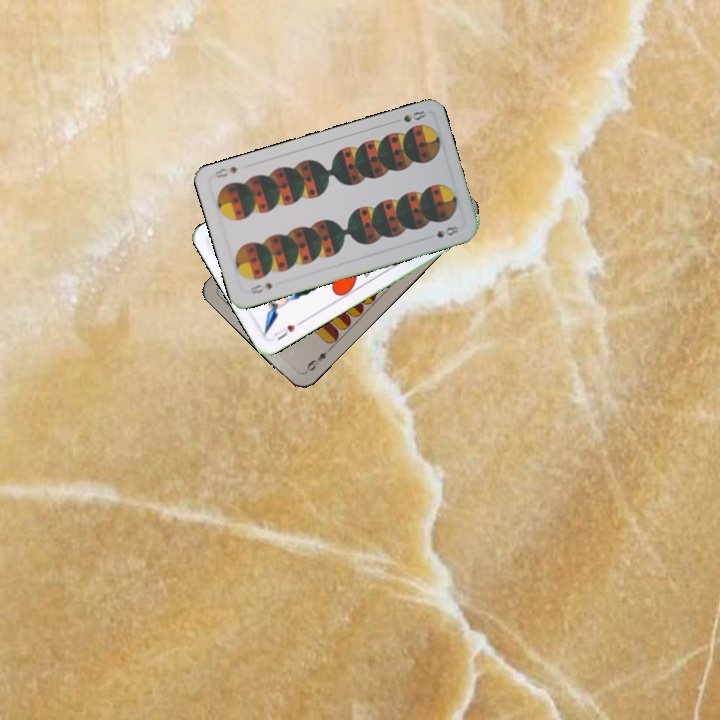E9: (301, 344, 333, 376)
HU: (270, 317, 305, 343)
S8: (389, 106, 429, 126), (246, 278, 275, 297)
